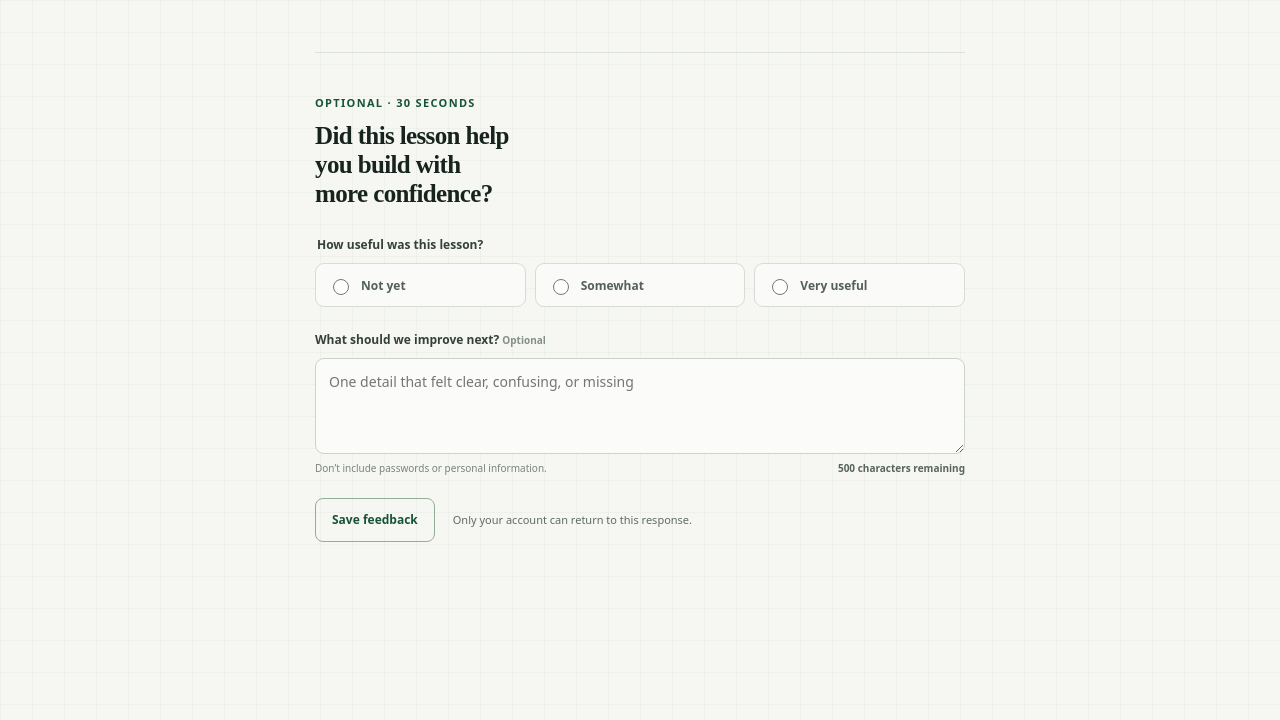
Test: CourseFeedback › saves an optional response without sending its content to analytics
Click the radio button labelled "Very useful": click(780, 287) [772,279,788,295]
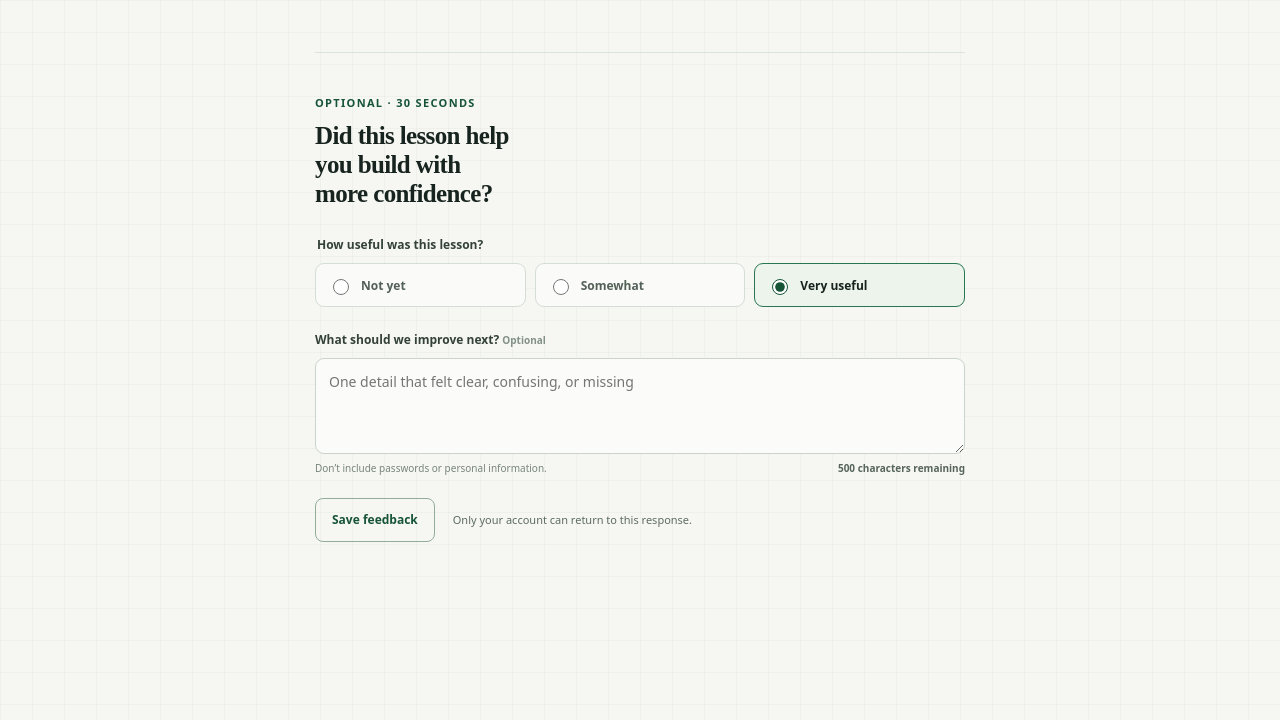
In the text box with placeholder "One detail that felt clear, confusing, or missing": (640, 406) [315,358,965,454], type "The preview helped."
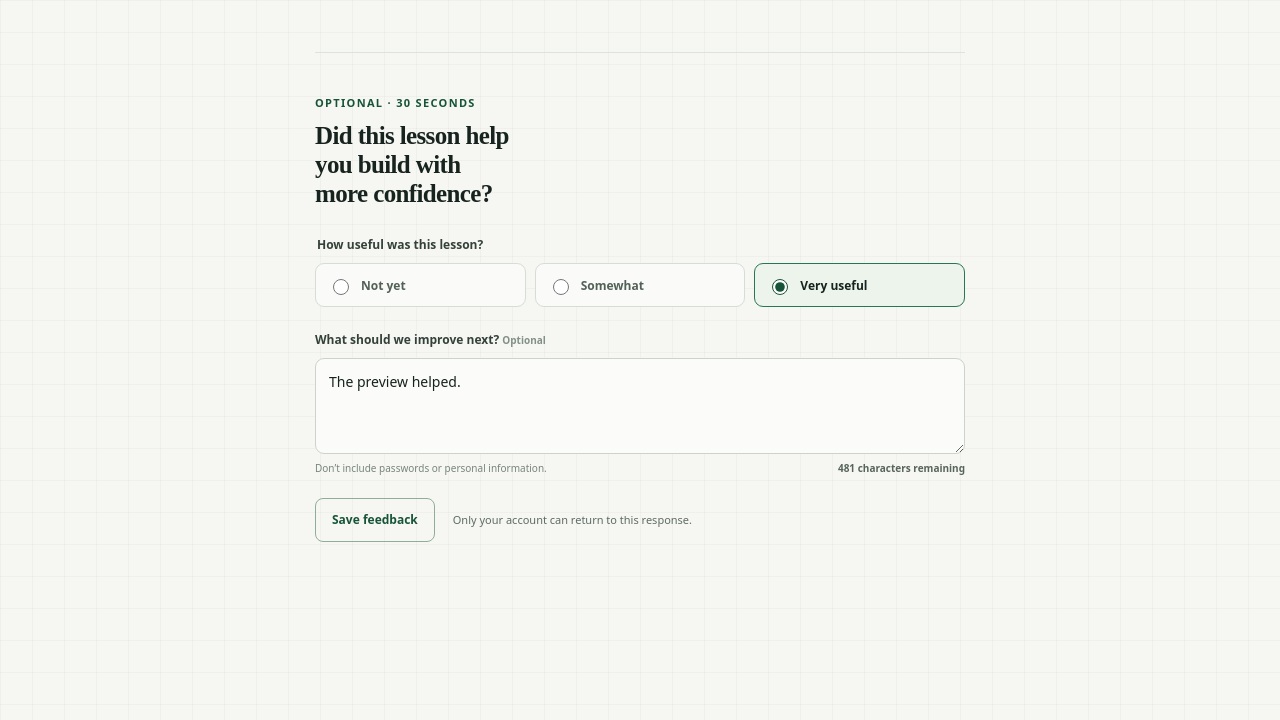
Click the button "Save feedback": click(375, 520) [315,498,435,542]
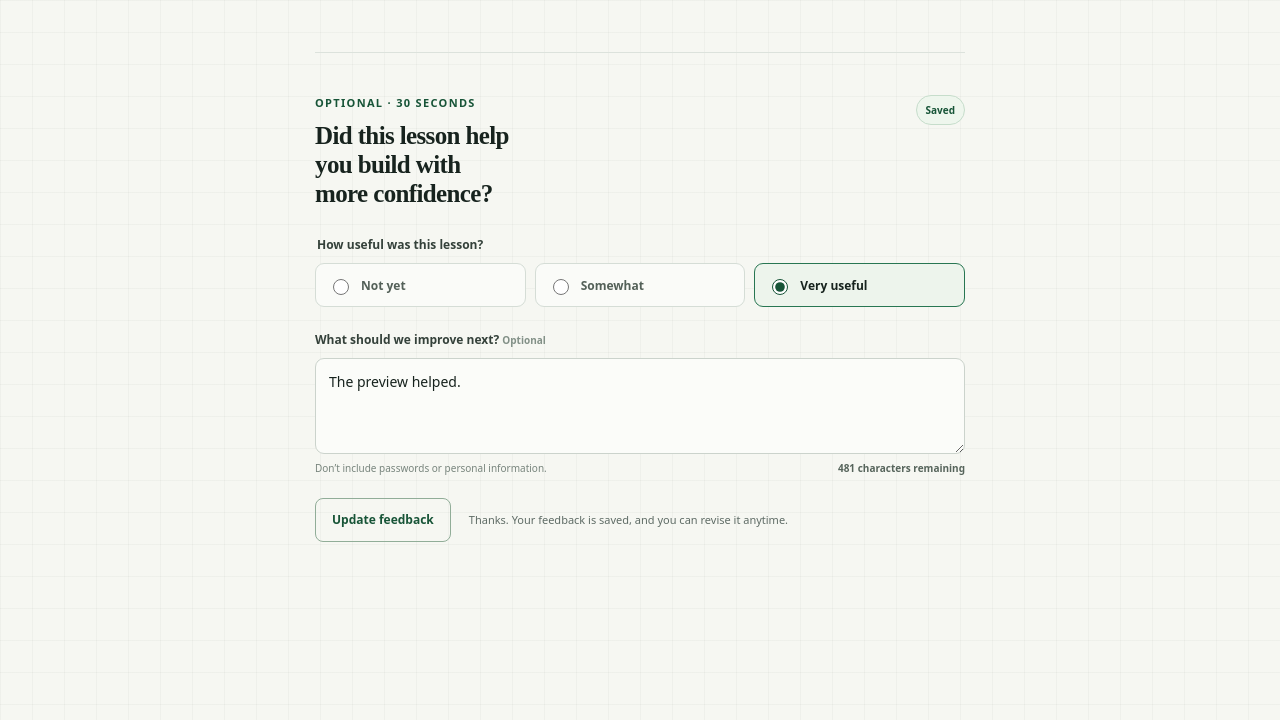
Expected: the text "Thanks. Your feedback is saved, and you can revise it anytime." is shown, [469,512,788,527]
